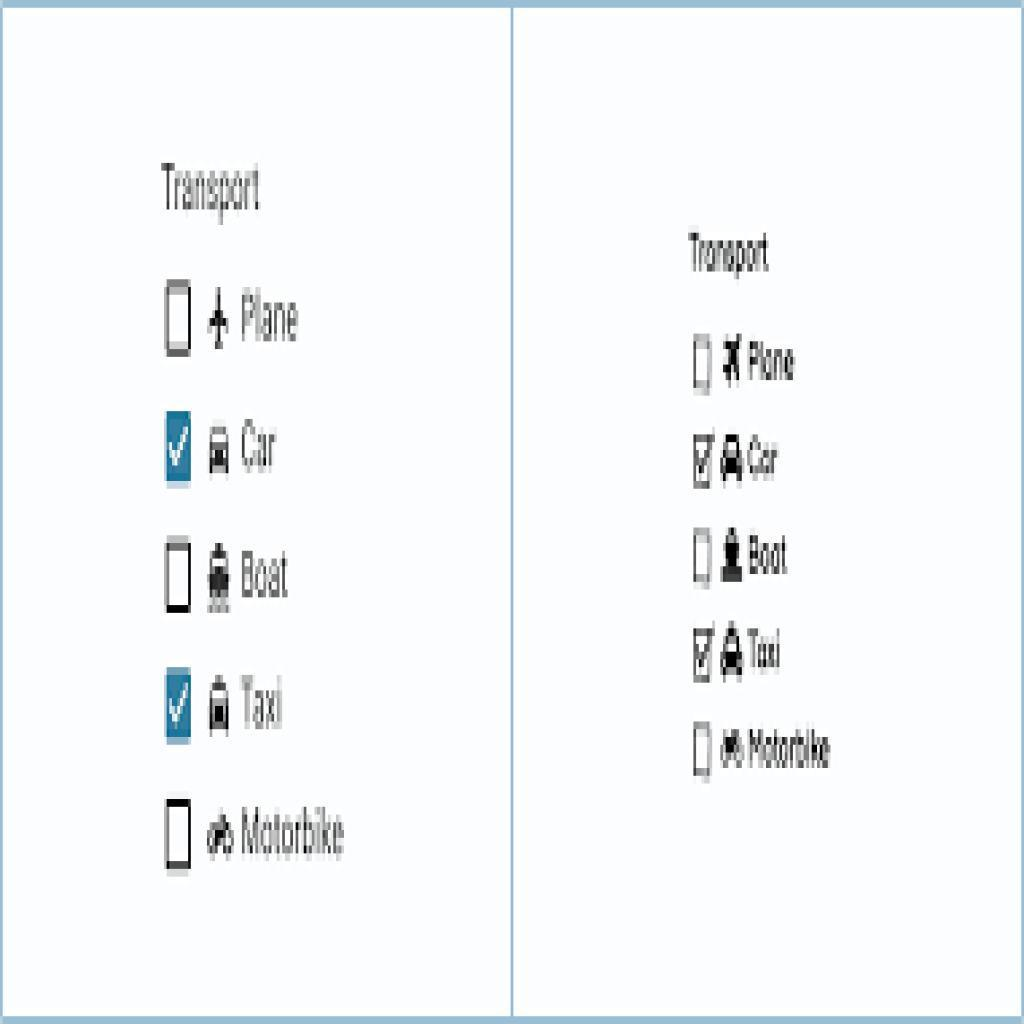checkbox: (161, 533, 197, 620), (162, 664, 197, 752), (161, 796, 197, 881), (163, 409, 196, 492), (165, 277, 196, 362), (688, 715, 717, 784), (690, 625, 720, 687), (691, 526, 719, 590), (691, 331, 717, 399), (691, 432, 719, 494)
icon: (205, 670, 240, 742), (207, 542, 237, 621), (205, 284, 234, 359), (204, 421, 239, 482), (202, 808, 239, 865), (717, 524, 746, 587), (720, 621, 747, 685), (718, 430, 747, 488), (721, 327, 747, 391), (720, 724, 747, 773)
